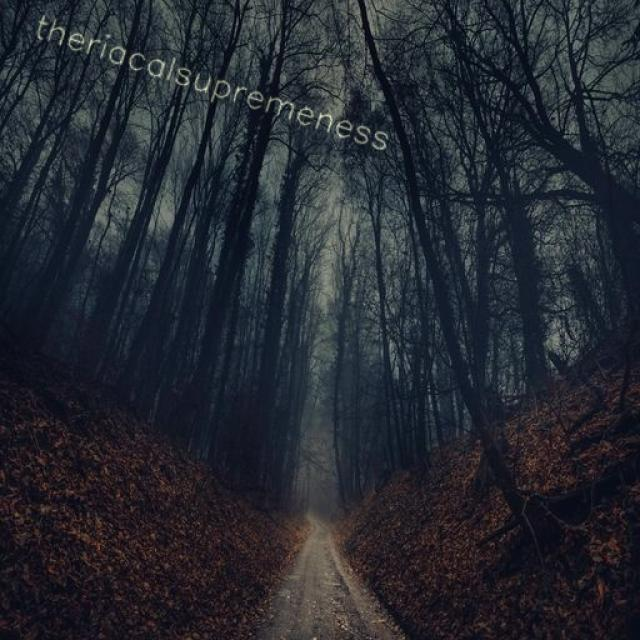watermark: (23, 10, 409, 156)
